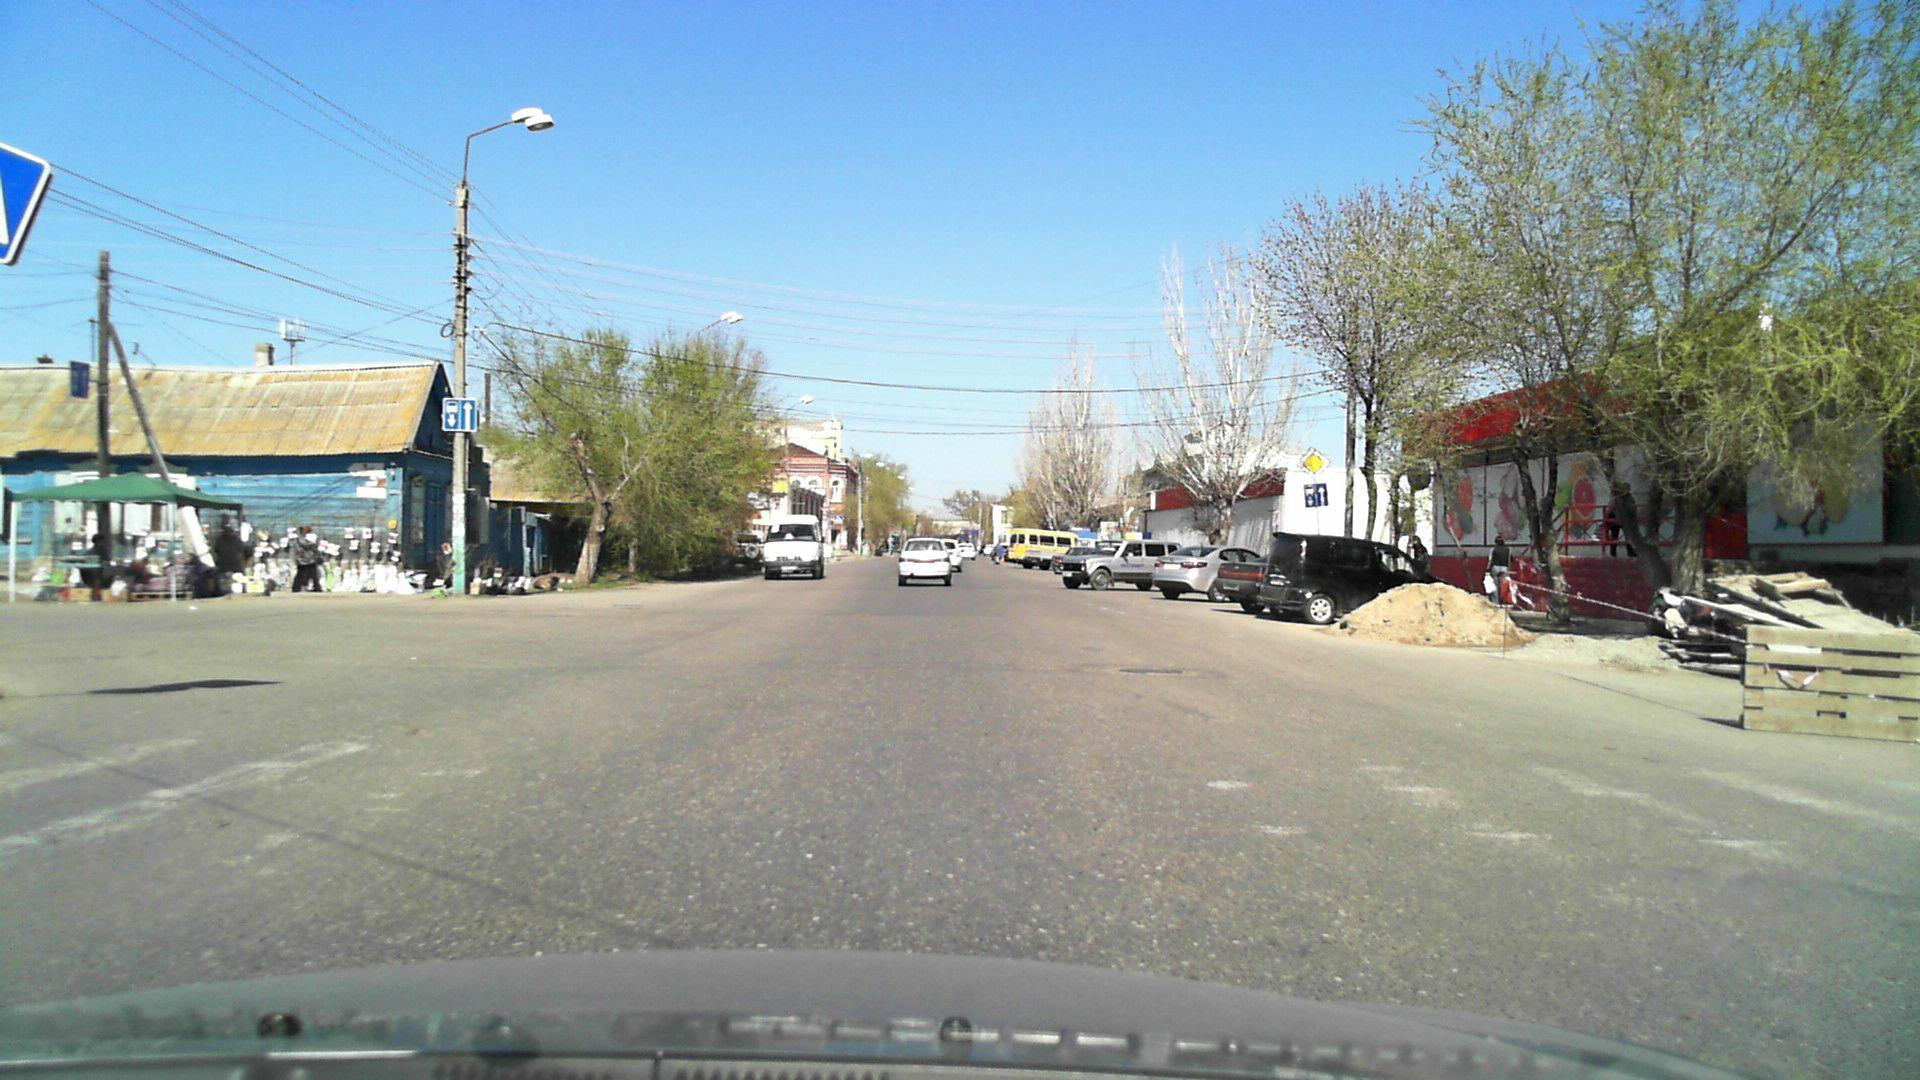2_1: (1296, 444, 1329, 477)
5_11_1: (67, 356, 95, 400), (442, 400, 477, 433), (1302, 483, 1329, 509)
5_19_2: (0, 144, 65, 268)
